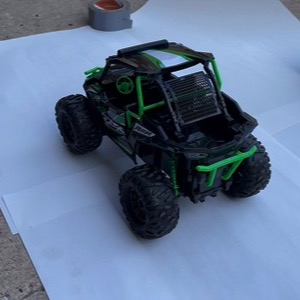polaris: (54, 39, 271, 243)
